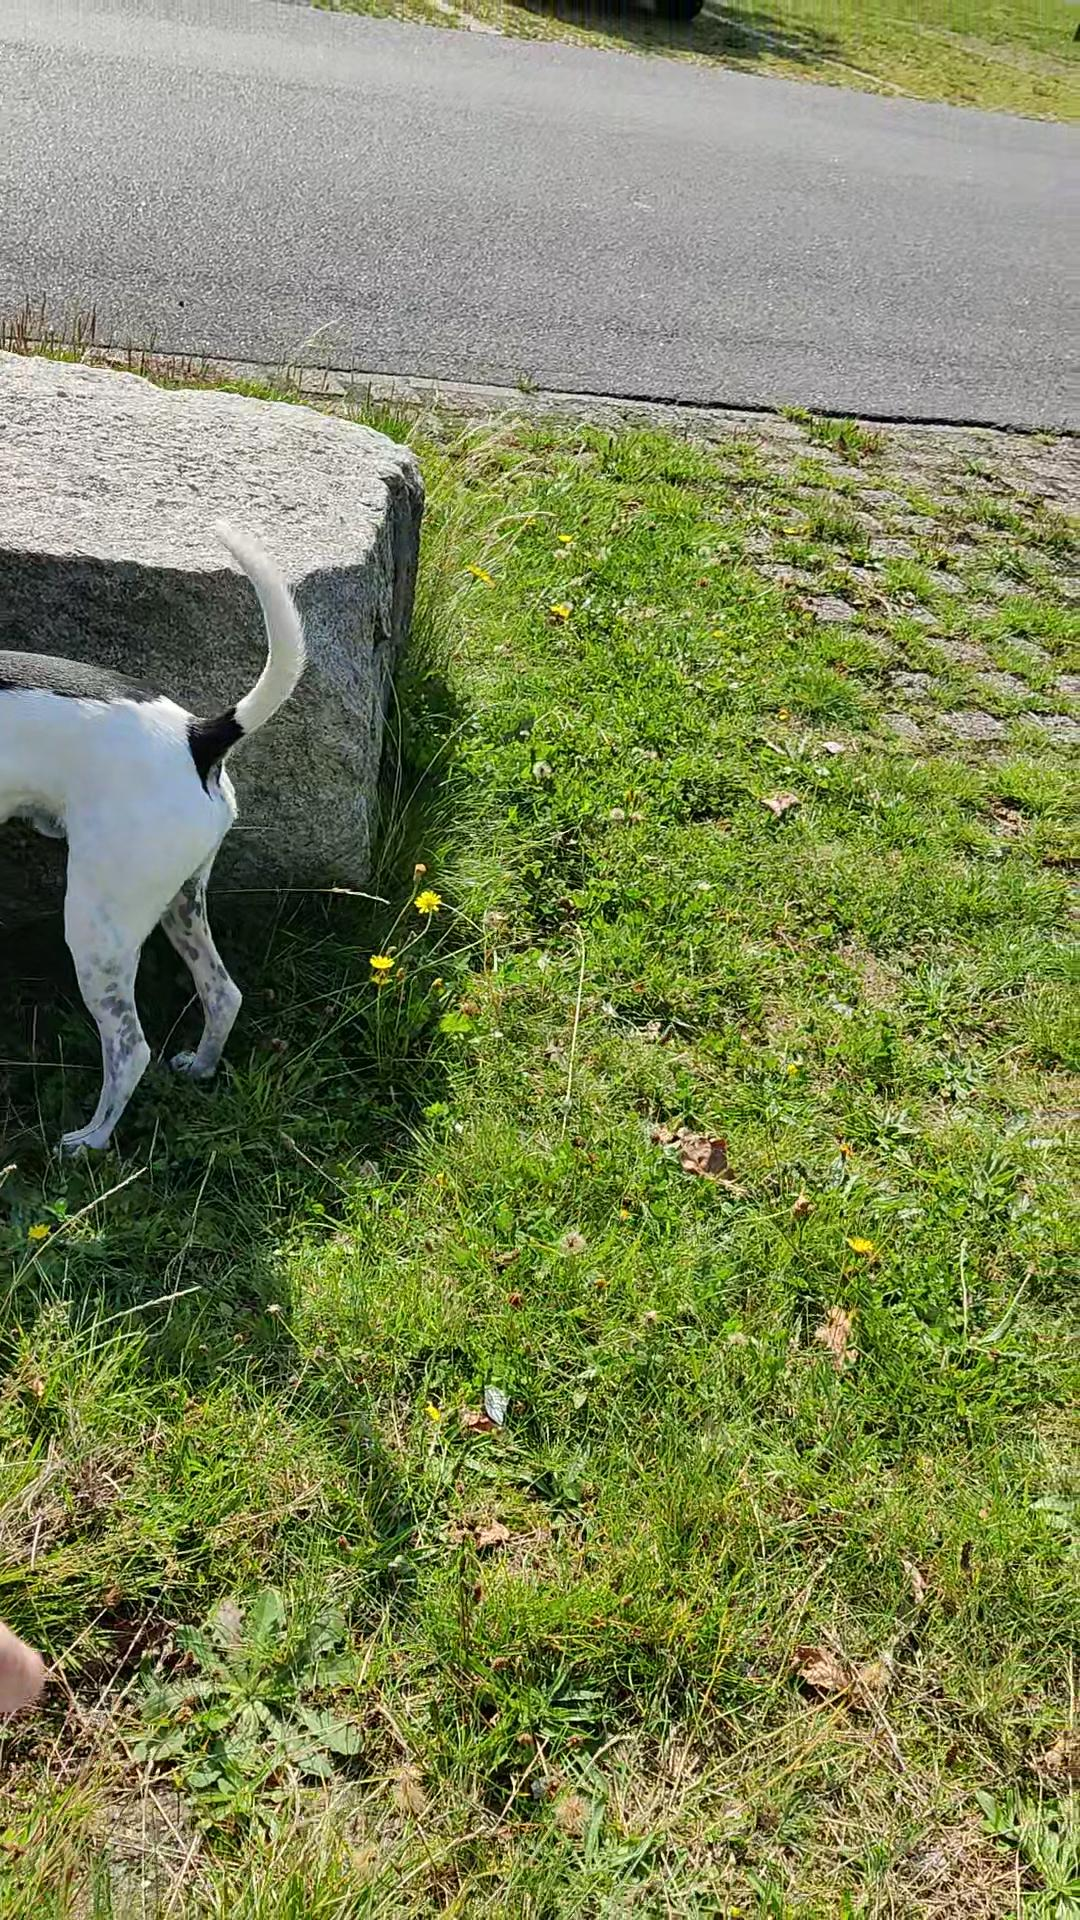Dog: (0, 510, 316, 1156)
